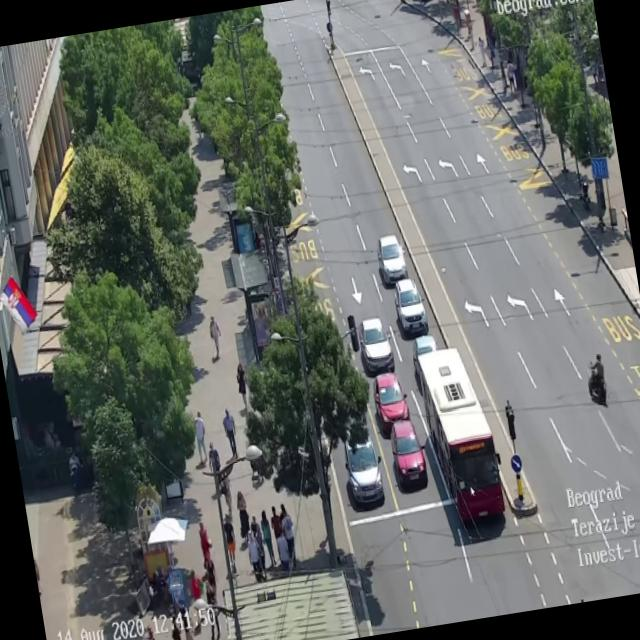bus: (409, 336, 508, 528)
car: (338, 422, 388, 508), (392, 416, 429, 493), (356, 317, 394, 386), (372, 372, 412, 432), (374, 232, 410, 287), (395, 276, 426, 339), (412, 329, 441, 382)
